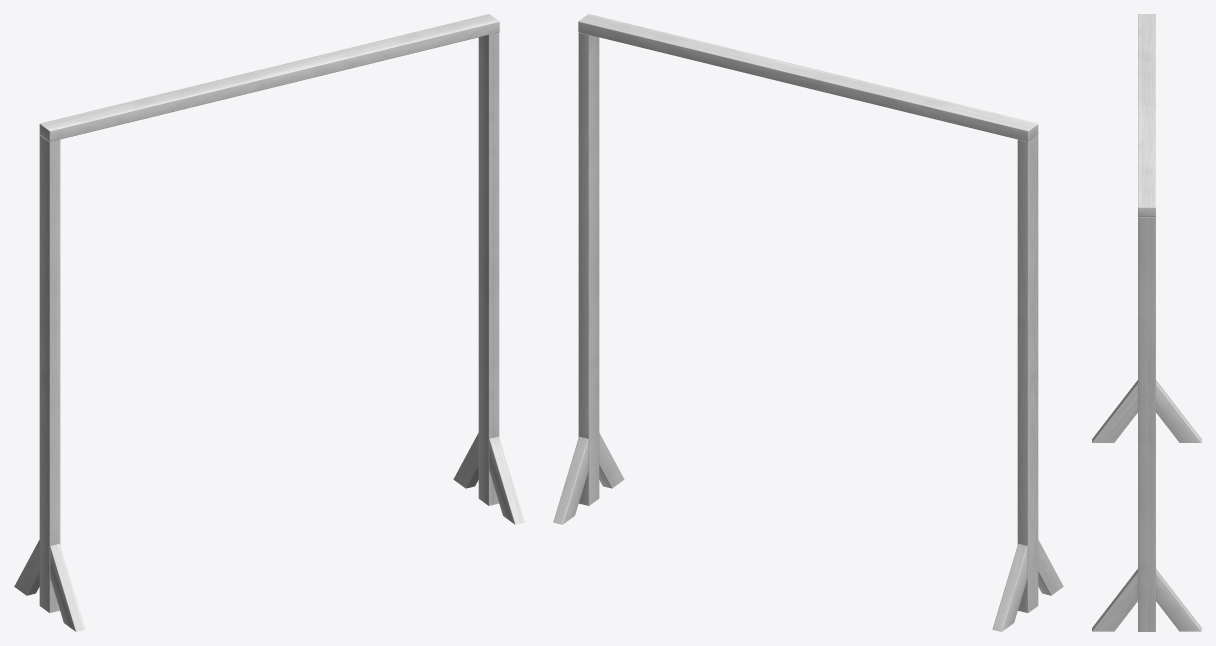
File: EventArch01_1.FBX
3 views of the same model, side by side, from view 1: azimuth 30°, elevation 25°; view 2: azimuth 150°, elevation 25°; view 3: azimuth 270°, elevation 25° (orthographic). The views are drawn at different scales.
Parts seen in each view (by area): view 1: EventArch01_1; view 2: EventArch01_1; view 3: EventArch01_1.
Part boxes in pixels (x1,y1,x2,y2): EventArch01_1: (14, 14, 524, 631); EventArch01_1: (553, 14, 1063, 631); EventArch01_1: (1092, 14, 1201, 631).
Size of what is drawn, in the model's own units: 2.5 by 2.56 by 0.5992.
